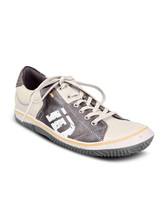shoes: (11, 63, 156, 160)
